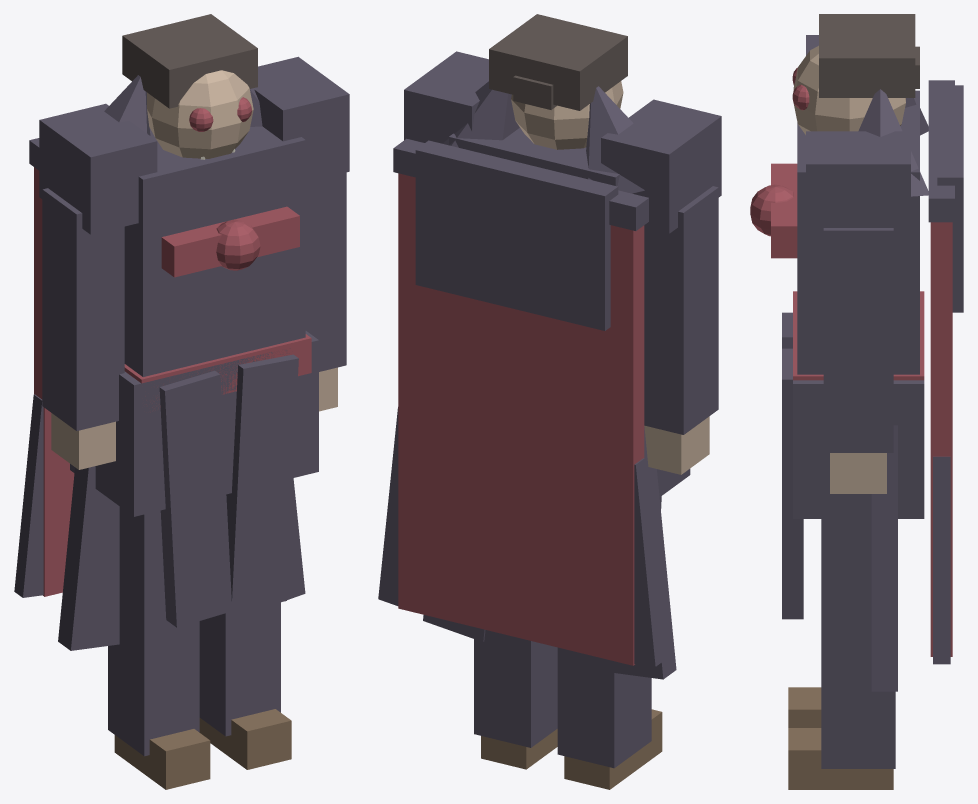
File: vampire.fbx
The picture shows the model from 3 angles, left to right: view 1: azimuth 30°, elevation 25°; view 2: azimuth 150°, elevation 25°; view 3: azimuth 270°, elevation 25°; orthographic projection. The views are drawn at different scales.
Visible parts, largest first — view 1: vampire; view 2: vampire; view 3: vampire.
Part boxes in pixels (box(x1,y1,x2,y2)): vampire: box(14, 14, 349, 789); vampire: box(378, 14, 721, 789); vampire: box(750, 14, 963, 789).
Size of the model in its own units: 73.18 by 182 by 48.71.
